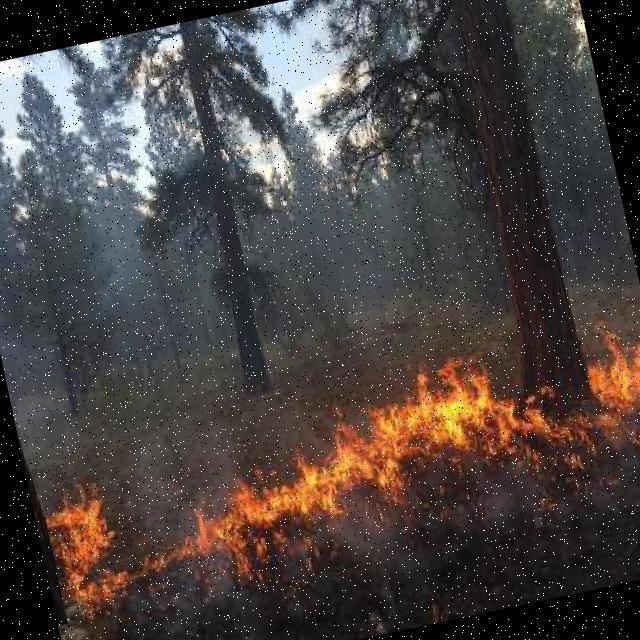fire: (32, 325, 640, 627)
